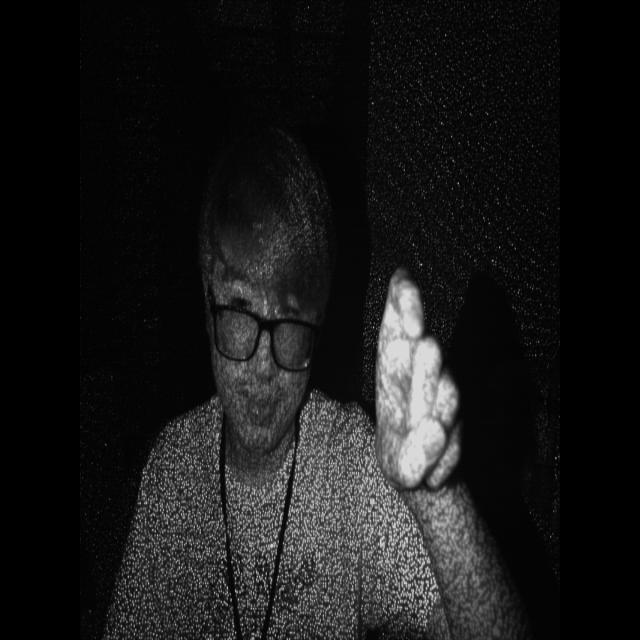X: (366, 247, 472, 514)
